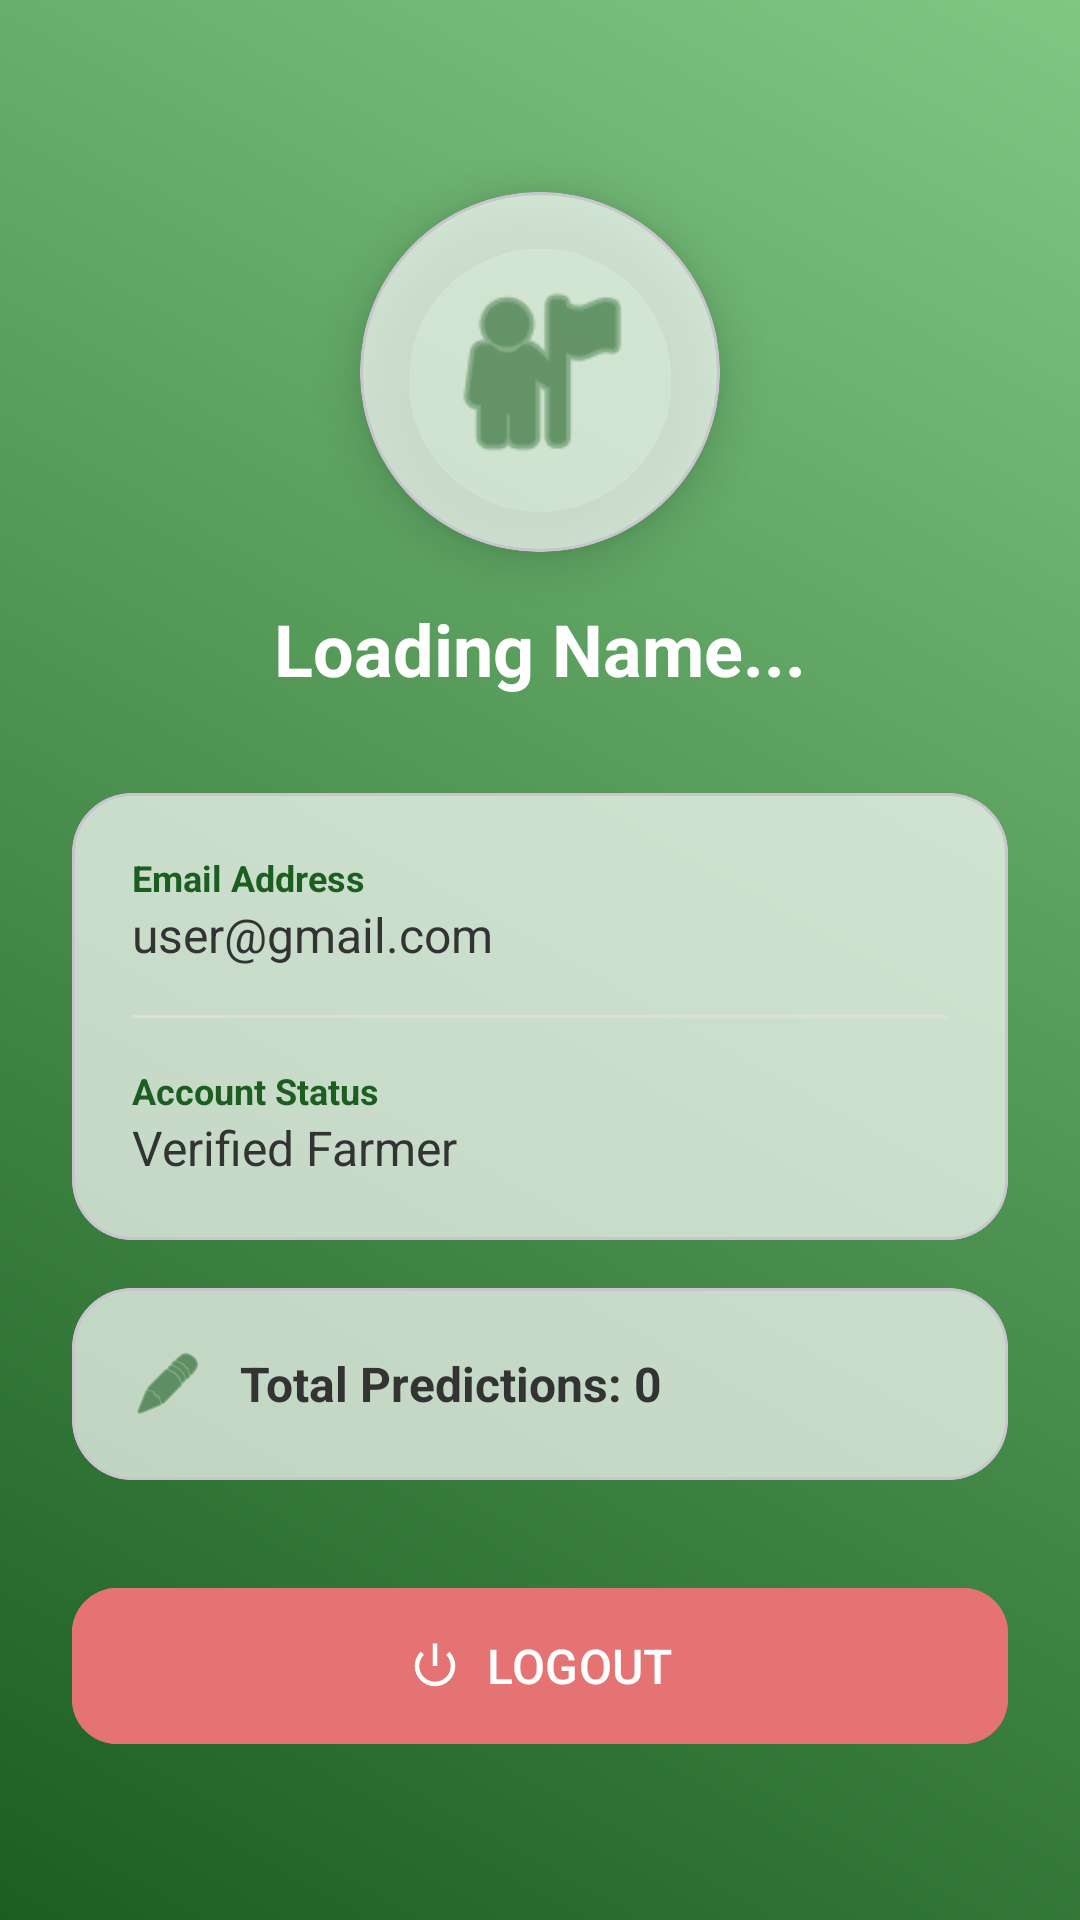

Where to tap for icons on this 1080×1920 app screen, as point (x, y):
edit: point (167, 1383)
myplaces: point (540, 372)
